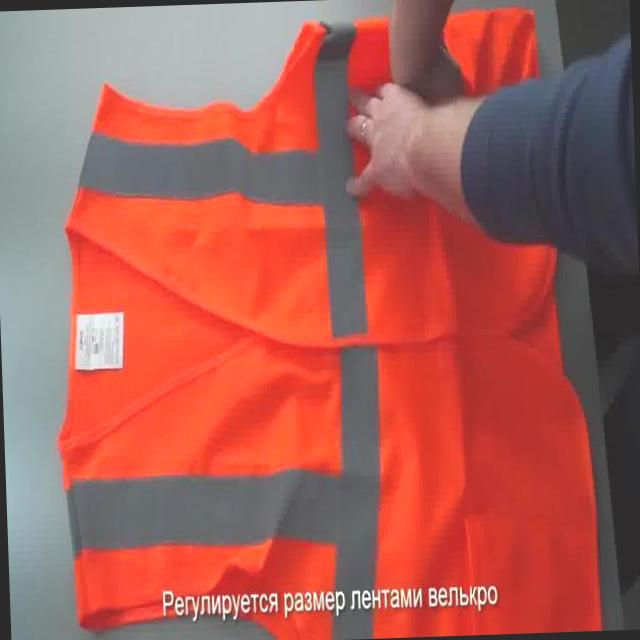no-gloves: (337, 76, 437, 203)
vest: (40, 0, 603, 640)
